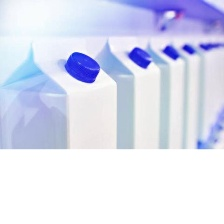carton: (0, 32, 119, 149), (90, 33, 162, 152)
